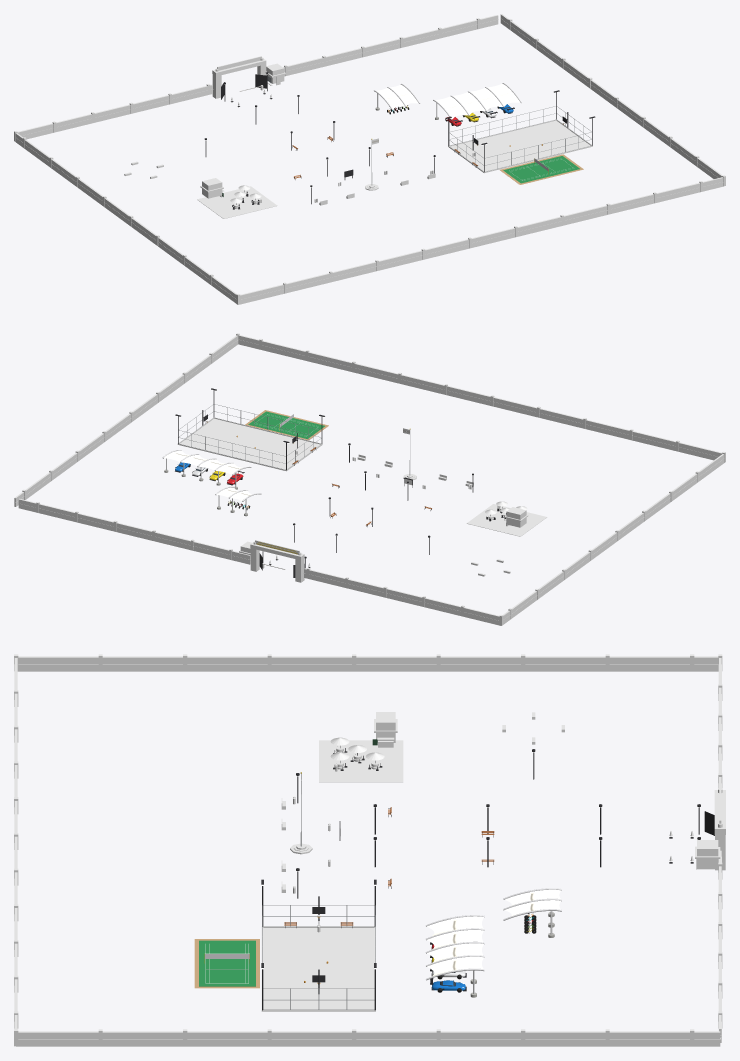
The model's file is campus_props.glb.
The picture shows the model from 3 angles, top to bottom: view 1: azimuth 30°, elevation 25°; view 2: azimuth 150°, elevation 25°; view 3: azimuth 270°, elevation 25°; orthographic projection. The views are drawn at different scales.
Parts seen in each view (by area): view 1: Boundary_Wall_South, Court_Pad_Apron, Boundary_Wall_West, Boundary_Wall_East, Boundary_Wall_N_Right, Boundary_Wall_N_Left, Car_Parking_Shade, Cafe_Plaza_Terrace, BC_GreenSurface, Bike_Parking_Shade, Boundary_Coping_South; view 2: Boundary_Wall_South, Court_Pad_Apron, Boundary_Wall_East, Boundary_Wall_West, Boundary_Wall_N_Right, Boundary_Wall_N_Left, BC_GreenSurface, Cafe_Plaza_Terrace, Car_Parking_Shade, Court_Surface_Blue, Boundary_Coping_South; view 3: Boundary_Wall_East, Boundary_Wall_West, Court_Pad_Apron, Court_Surface_Blue, Car_Parking_Shade, Cafe_Plaza_Terrace, BC_GreenSurface, Bike_Parking_Shade, Boundary_Wall_South, BC_Surround, Boundary_Coping_East, Boundary_Coping_West.
Boxes of the visible parts, box(x1,y1,x2,y2) form: Boundary_Wall_South: box(240, 177, 723, 304); Court_Pad_Apron: box(450, 120, 590, 171); Boundary_Wall_West: box(15, 133, 236, 303); Boundary_Wall_East: box(500, 14, 722, 178); Boundary_Wall_N_Right: box(283, 15, 498, 76); Boundary_Wall_N_Left: box(17, 84, 212, 139); Car_Parking_Shade: box(433, 83, 521, 119); Cafe_Plaza_Terrace: box(197, 186, 277, 218); BC_GreenSurface: box(503, 156, 579, 183); Bike_Parking_Shade: box(374, 83, 419, 110); Boundary_Coping_South: box(240, 182, 723, 299); Boundary_Wall_South: box(238, 335, 722, 460); Court_Pad_Apron: box(180, 418, 320, 469); Boundary_Wall_East: box(14, 335, 237, 506); Boundary_Wall_West: box(503, 454, 724, 624); Boundary_Wall_N_Right: box(18, 498, 250, 564); Boundary_Wall_N_Left: box(304, 568, 500, 625); BC_GreenSurface: box(248, 411, 324, 438); Cafe_Plaza_Terrace: box(467, 504, 546, 536); Car_Parking_Shade: box(162, 450, 251, 489); Court_Surface_Blue: box(191, 433, 310, 456); Boundary_Coping_South: box(239, 340, 718, 456); Boundary_Wall_East: box(16, 1031, 720, 1046); Boundary_Wall_West: box(18, 656, 718, 671); Court_Pad_Apron: box(263, 928, 374, 1009); Court_Surface_Blue: box(273, 933, 364, 1004); Car_Parking_Shade: box(425, 915, 484, 997); Cafe_Plaza_Terrace: box(319, 740, 403, 782); BC_GreenSurface: box(199, 940, 255, 986); Bike_Parking_Shade: box(503, 888, 561, 937); Boundary_Wall_South: box(14, 658, 17, 1029); BC_Surround: box(194, 939, 259, 988); Boundary_Coping_East: box(18, 1037, 720, 1039); Boundary_Coping_West: box(18, 664, 718, 664).
Size of the model in its own units: 127 by 12.31 by 101.
